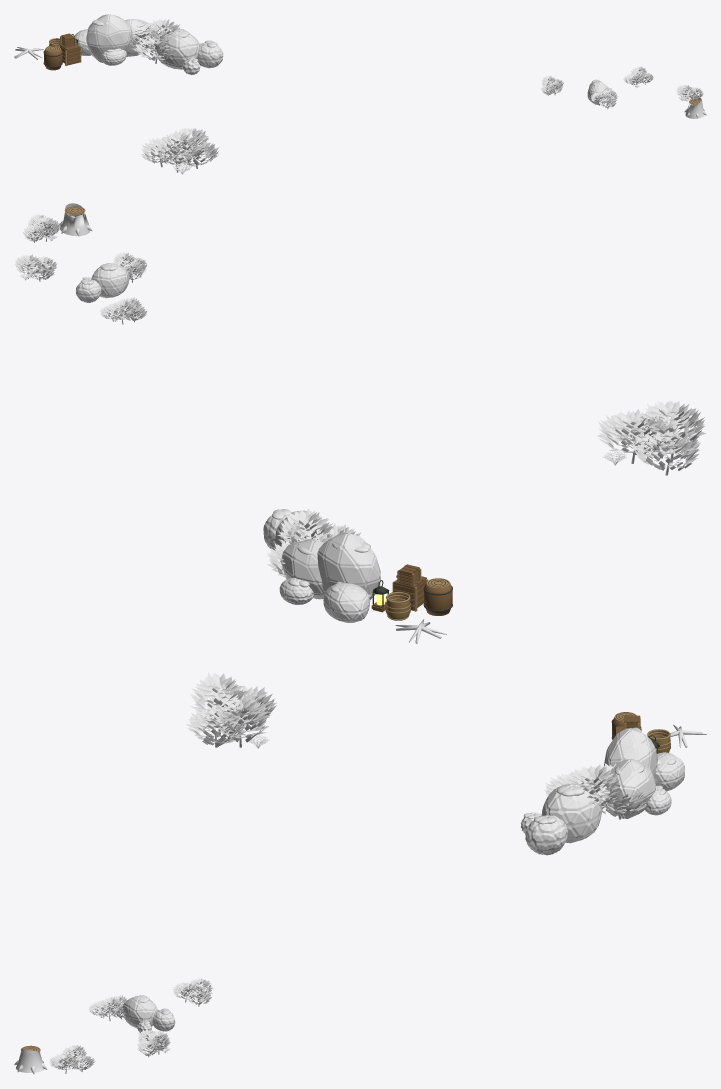
Rendered from SM_DF_Explorer_1_1_Macro.fbx.
The picture shows the model from 3 angles, top to bottom: view 1: azimuth 30°, elevation 25°; view 2: azimuth 150°, elevation 25°; view 3: azimuth 270°, elevation 25°; orthographic projection. The views are drawn at different scales.
Parts seen in each view (by area): view 1: SM_DF_Explorer_1_1_Macro; view 2: SM_DF_Explorer_1_1_Macro; view 3: SM_DF_Explorer_1_1_Macro.
Boxes of the visible parts, bbox=[...] form: SM_DF_Explorer_1_1_Macro: bbox=[14, 14, 706, 174]; SM_DF_Explorer_1_1_Macro: bbox=[14, 203, 706, 643]; SM_DF_Explorer_1_1_Macro: bbox=[14, 672, 706, 1074].
Size of the model in its own units: 2916 by 2389 by 280.
